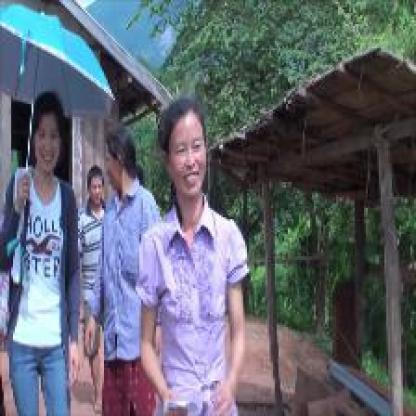other: (80, 339, 163, 411)
